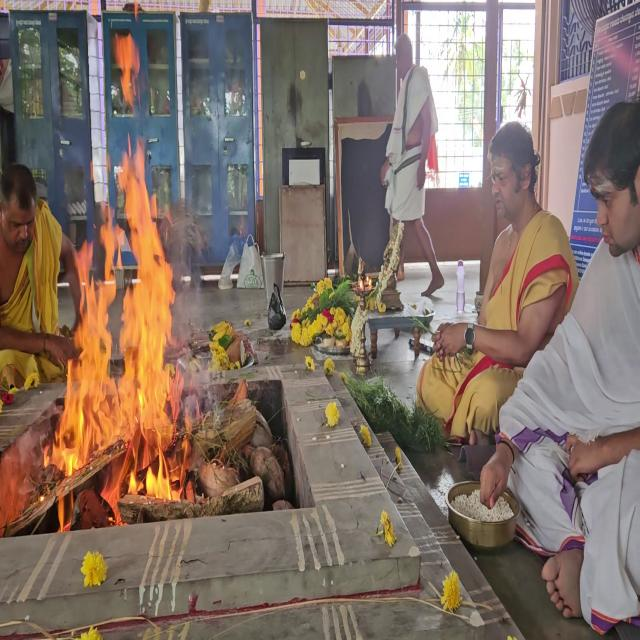fire: (50, 22, 190, 535)
